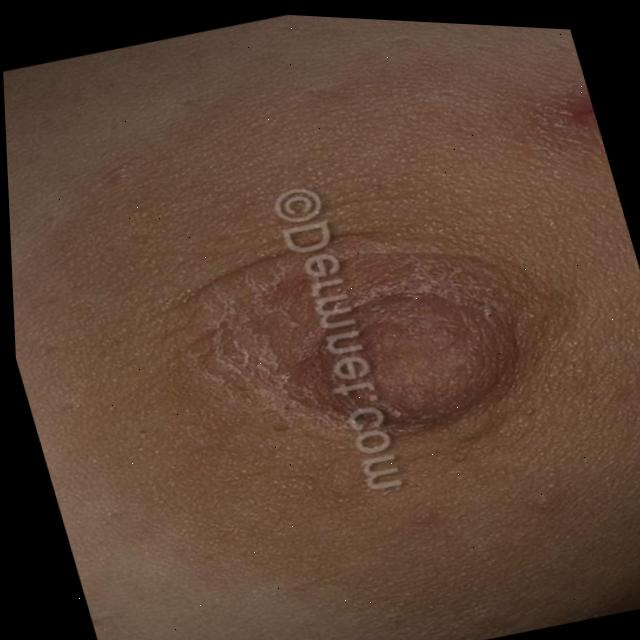Eczema: (182, 203, 550, 497)
